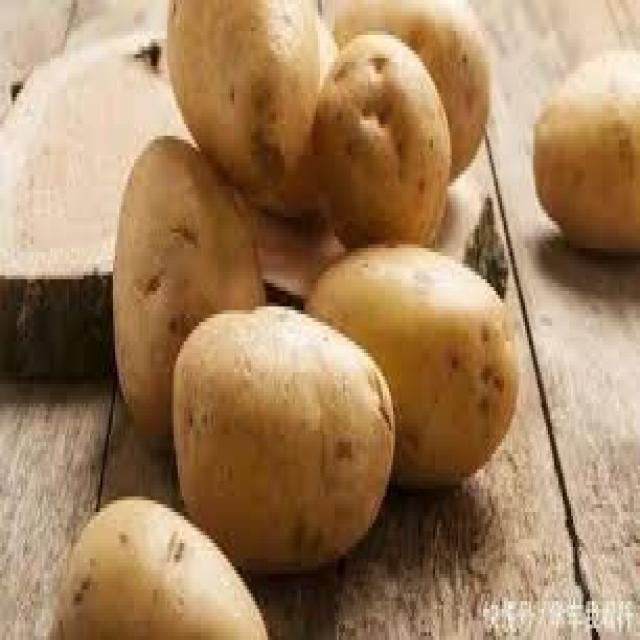organic waste: (170, 303, 393, 570), (301, 233, 519, 485), (109, 132, 264, 438), (159, 0, 324, 213), (310, 23, 450, 245), (57, 493, 266, 636), (328, 0, 489, 178), (529, 47, 638, 252)
